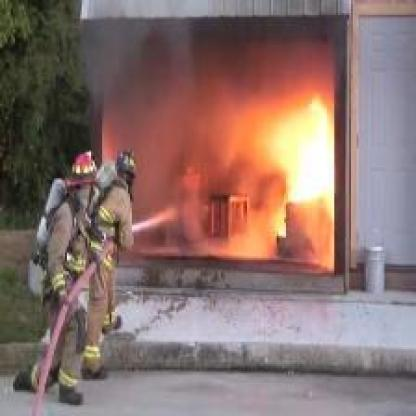fire: (246, 95, 334, 245)
smoke: (84, 16, 186, 99)
